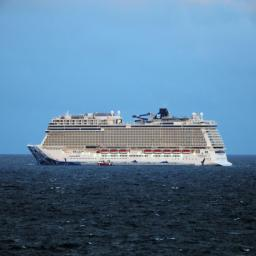cruises: (26, 108, 235, 172)
